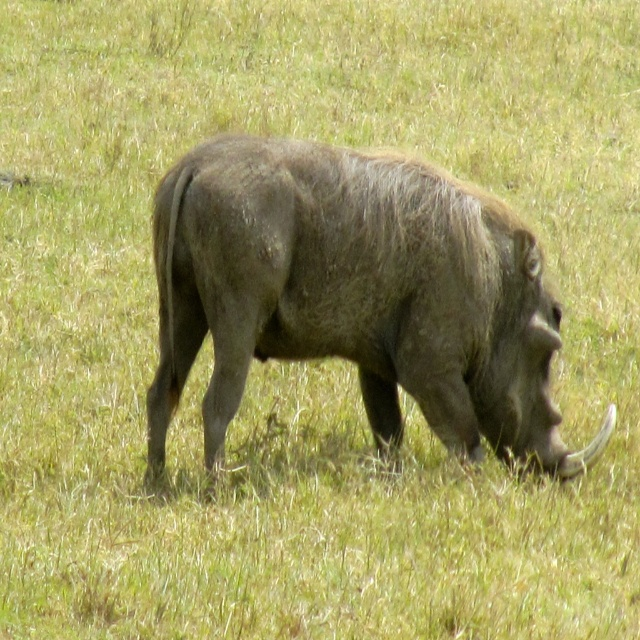Pig: (143, 132, 617, 501)
